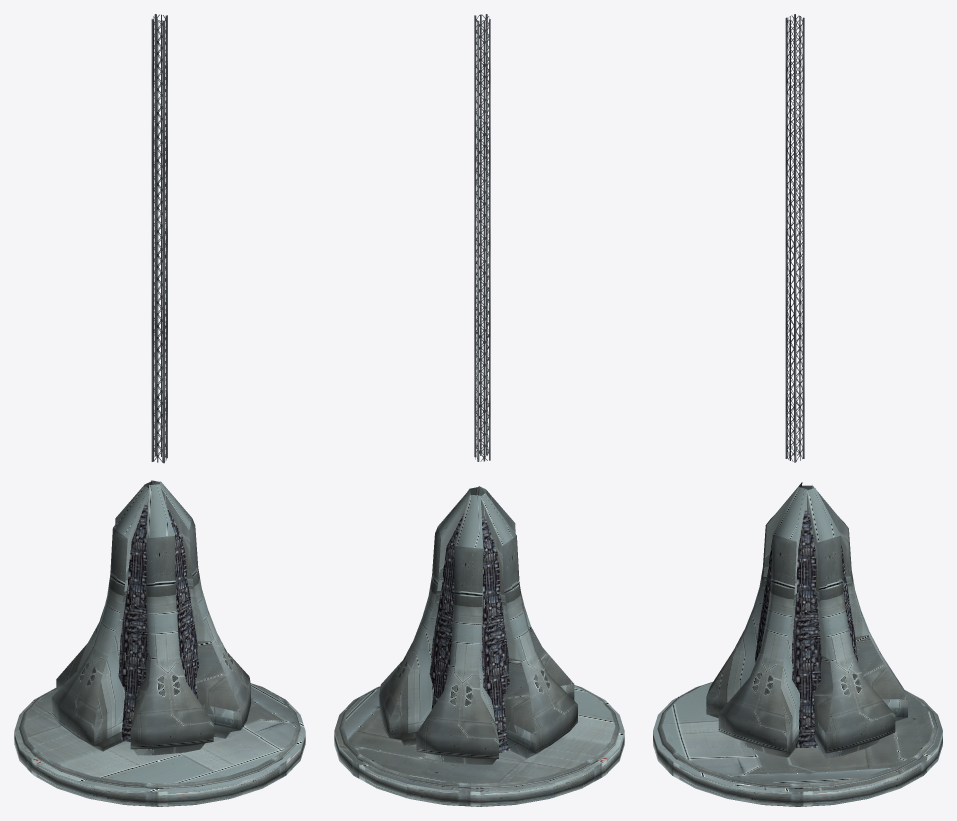
File: LowerAssembly.fbx
3 renders of one model, left to right at view 1: azimuth 30°, elevation 25°; view 2: azimuth 150°, elevation 25°; view 3: azimuth 270°, elevation 25°, orthographic.
Parts seen in each view (by area): view 1: Cube.004, Circle, Cube.001; view 2: Cube.004, Circle, Cube.001; view 3: Cube.004, Circle, Cube.001.
Part boxes in pixels (x1,y1,x2,y2): Cube.004: (51, 480, 250, 755); Circle: (14, 683, 305, 806); Cube.001: (151, 14, 167, 463); Cube.004: (379, 486, 577, 764); Circle: (334, 685, 624, 806); Cube.001: (474, 14, 490, 461); Cube.004: (706, 482, 907, 758); Circle: (653, 682, 942, 806); Cube.001: (785, 14, 804, 462).
Size of the model in its own units: 1277 by 3551 by 1277.
